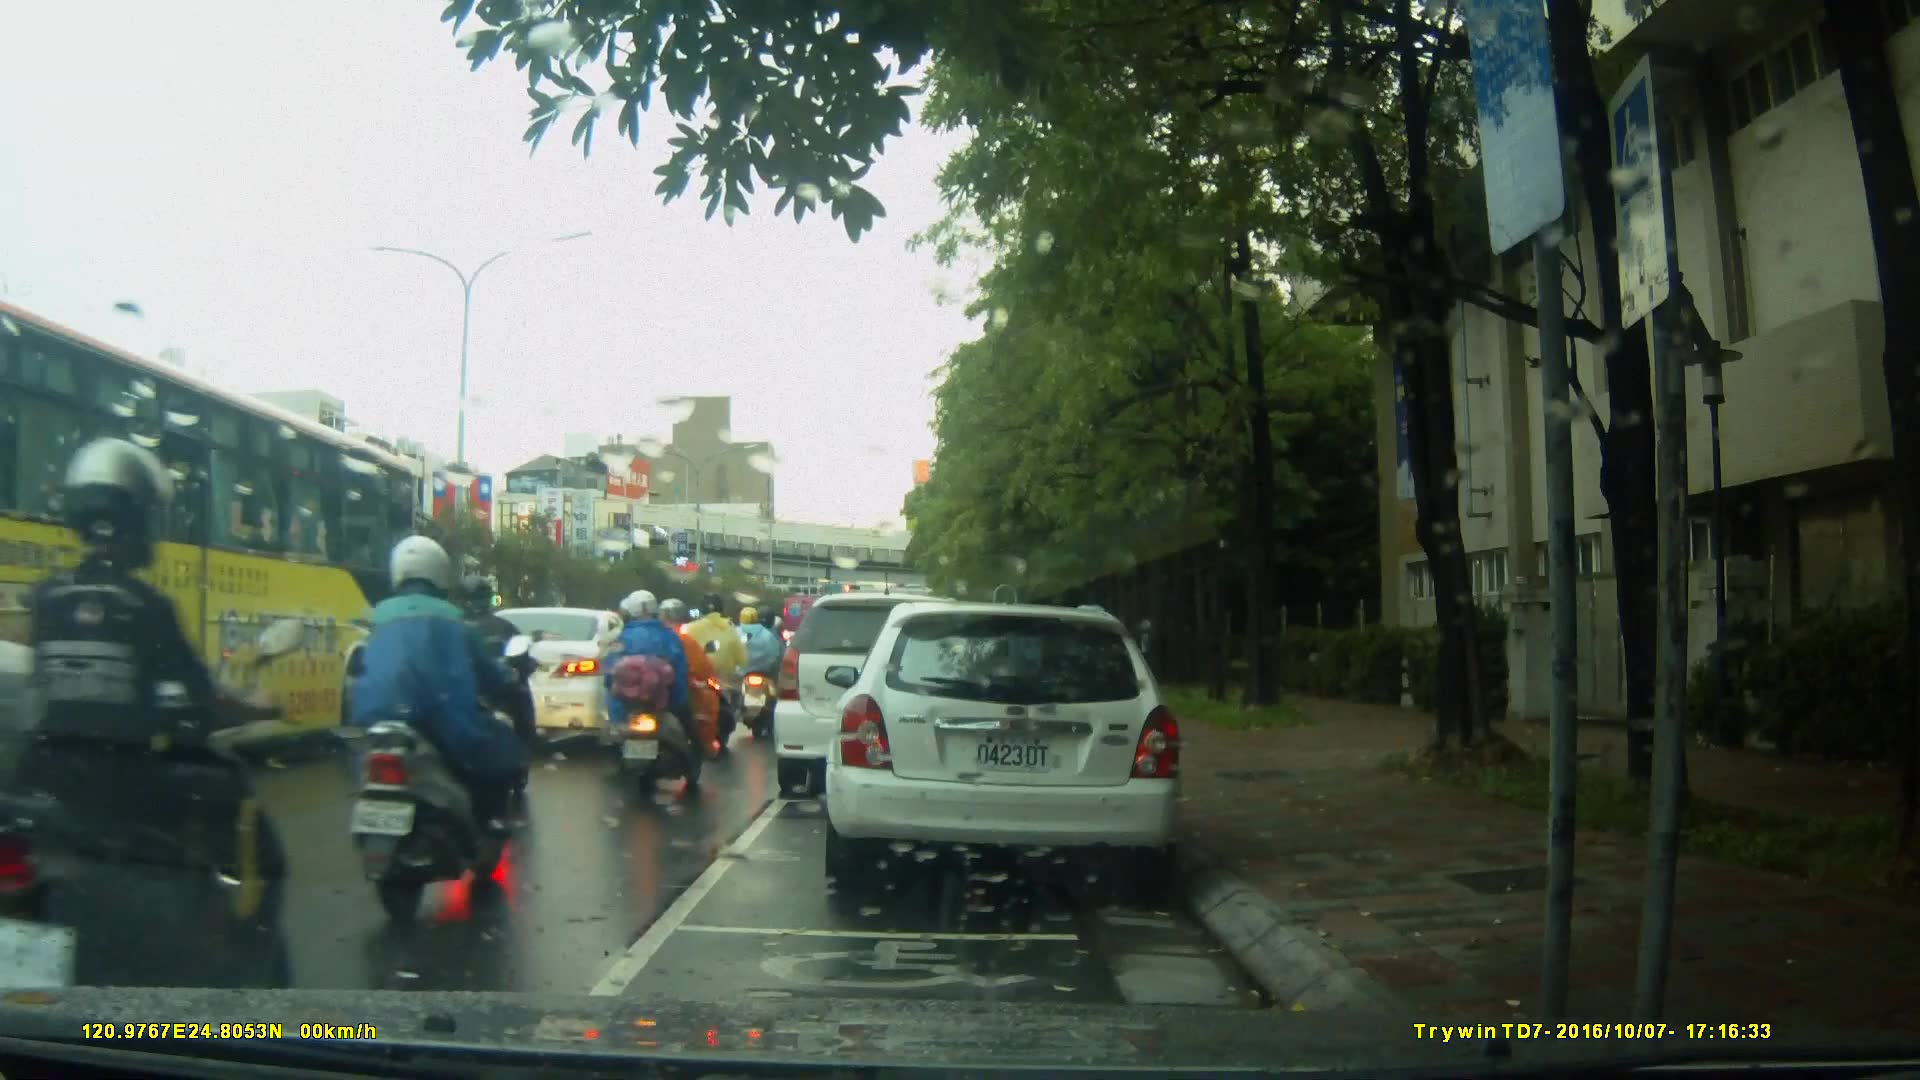rider: (2, 435, 304, 1035), (344, 520, 517, 921), (415, 571, 545, 818), (602, 588, 717, 805), (685, 592, 749, 759), (726, 605, 782, 739)
vehicle: (1, 296, 427, 792), (835, 594, 1194, 898), (776, 590, 1026, 784), (463, 605, 666, 748)
